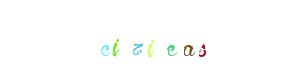A: (154, 0, 234, 80)
C: (75, 0, 155, 80)
E: (131, 0, 211, 80)
J: (88, 0, 168, 80), (102, 0, 182, 80)
S: (154, 0, 234, 80)
Z: (100, 0, 180, 80)
